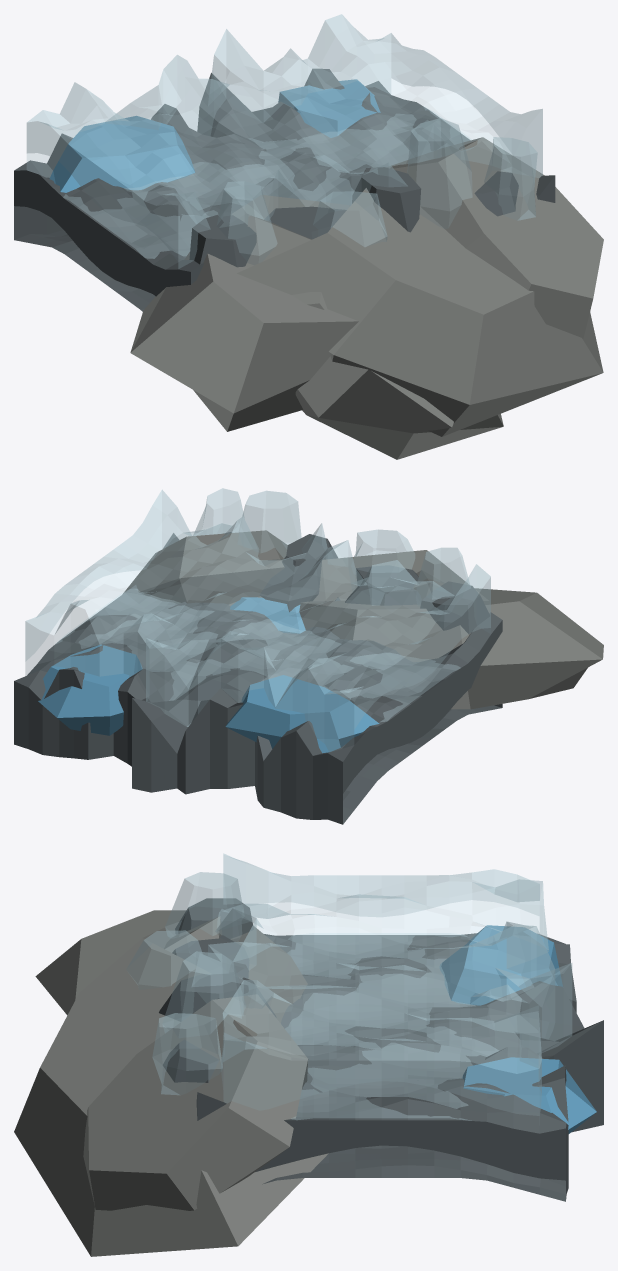
File: ice_bridge_left_v11_smooth_clear.glb
3 views of the same model, one above another, from view 1: azimuth 30°, elevation 25°; view 2: azimuth 150°, elevation 25°; view 3: azimuth 270°, elevation 25° (orthographic). The views are drawn at different scales.
Parts seen in each view (by area): view 1: continuous_fractured_ice_shelf, eroded_rock_bed, large_eroded_bank_mass_01, large_eroded_bank_mass_00, large_eroded_bank_mass_02, large_eroded_bank_mass_03, compressed_ice_in_rock_00, fractured_ice_projection_02, fractured_ice_projection_00, fractured_ice_projection_03, compressed_ice_in_rock_02, fractured_ice_projection_01 (+4 smaller); view 2: continuous_fractured_ice_shelf, eroded_rock_bed, large_eroded_bank_mass_00, large_eroded_bank_mass_02, compressed_ice_in_rock_00, compressed_ice_in_rock_02, large_eroded_bank_mass_01, irregular_rock_transition_02, fractured_ice_projection_02, irregular_rock_transition_01, irregular_rock_transition_00, fractured_ice_projection_00 (+4 smaller); view 3: continuous_fractured_ice_shelf, eroded_rock_bed, large_eroded_bank_mass_02, large_eroded_bank_mass_01, large_eroded_bank_mass_00, compressed_ice_in_rock_00, fractured_ice_projection_03, compressed_ice_in_rock_02, fractured_ice_projection_02, fractured_ice_projection_00, fractured_ice_projection_01, irregular_rock_transition_02 (+4 smaller).
Boxes of the visible parts, x1=… form: continuous_fractured_ice_shelf: x1=26, y1=14, x2=542, y2=268; eroded_rock_bed: x1=14, y1=68, x2=555, y2=311; large_eroded_bank_mass_01: x1=237, y1=188, x2=603, y2=436; large_eroded_bank_mass_00: x1=130, y1=195, x2=358, y2=431; large_eroded_bank_mass_02: x1=387, y1=137, x2=603, y2=338; large_eroded_bank_mass_03: x1=245, y1=215, x2=503, y2=459; compressed_ice_in_rock_00: x1=49, y1=116, x2=195, y2=192; fractured_ice_projection_02: x1=407, y1=118, x2=472, y2=228; fractured_ice_projection_00: x1=217, y1=181, x2=277, y2=264; fractured_ice_projection_03: x1=484, y1=137, x2=537, y2=220; compressed_ice_in_rock_02: x1=278, y1=79, x2=380, y2=137; fractured_ice_projection_01: x1=313, y1=191, x2=387, y2=246; continuous_fractured_ice_shelf: x1=25, y1=489, x2=490, y2=751; eroded_rock_bed: x1=14, y1=533, x2=502, y2=824; large_eroded_bank_mass_00: x1=299, y1=588, x2=603, y2=709; large_eroded_bank_mass_02: x1=123, y1=530, x2=287, y2=604; compressed_ice_in_rock_00: x1=225, y1=675, x2=379, y2=753; compressed_ice_in_rock_02: x1=38, y1=644, x2=142, y2=735; large_eroded_bank_mass_01: x1=229, y1=550, x2=488, y2=605; irregular_rock_transition_02: x1=259, y1=534, x2=337, y2=612; fractured_ice_projection_02: x1=238, y1=490, x2=301, y2=557; irregular_rock_transition_01: x1=345, y1=565, x2=421, y2=605; irregular_rock_transition_00: x1=420, y1=581, x2=489, y2=634; fractured_ice_projection_00: x1=416, y1=547, x2=470, y2=605; continuous_fractured_ice_shelf: x1=192, y1=853, x2=572, y2=1120; eroded_rock_bed: x1=196, y1=933, x2=603, y2=1201; large_eroded_bank_mass_02: x1=83, y1=994, x2=308, y2=1210; large_eroded_bank_mass_01: x1=14, y1=927, x2=328, y2=1256; large_eroded_bank_mass_00: x1=35, y1=910, x2=307, y2=1023; compressed_ice_in_rock_00: x1=439, y1=925, x2=563, y2=1005; fractured_ice_projection_03: x1=152, y1=1013, x2=222, y2=1095; compressed_ice_in_rock_02: x1=462, y1=1057, x2=596, y2=1133; fractured_ice_projection_02: x1=163, y1=951, x2=245, y2=1032; fractured_ice_projection_00: x1=165, y1=872, x2=243, y2=941; fractured_ice_projection_01: x1=126, y1=930, x2=202, y2=989; irregular_rock_transition_02: x1=159, y1=974, x2=276, y2=1021.
Size of the model in its own units: 2.7 by 1.39 by 2.69.
